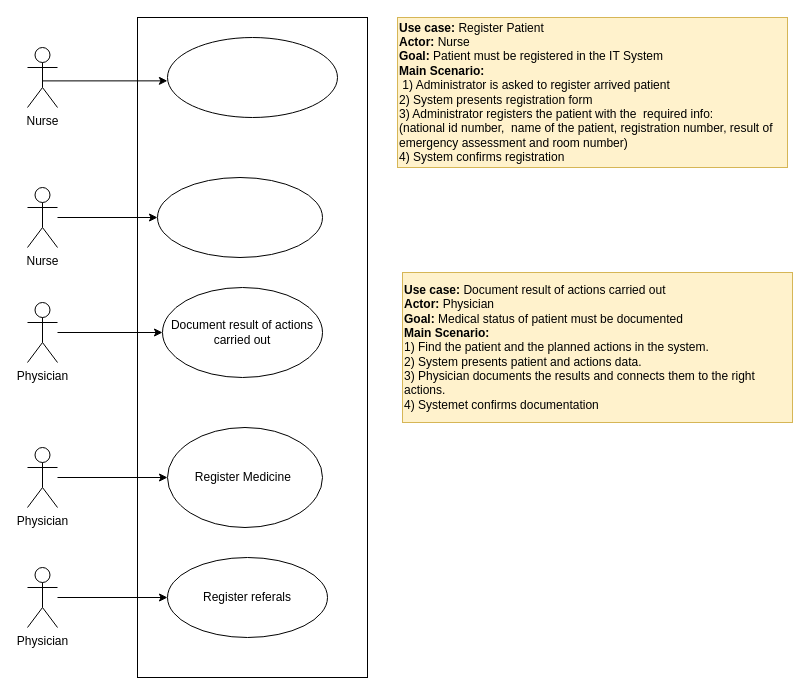
The diagram is 810 pixels wide and 695 high, and some of its shapes have lost their labels. The shapes that lost their labels are listed below. From the top down, each one's centre as x and y in pixels, then its label:
At [252,77]: "Register Patient".
At [239,217]: "Register actions".
